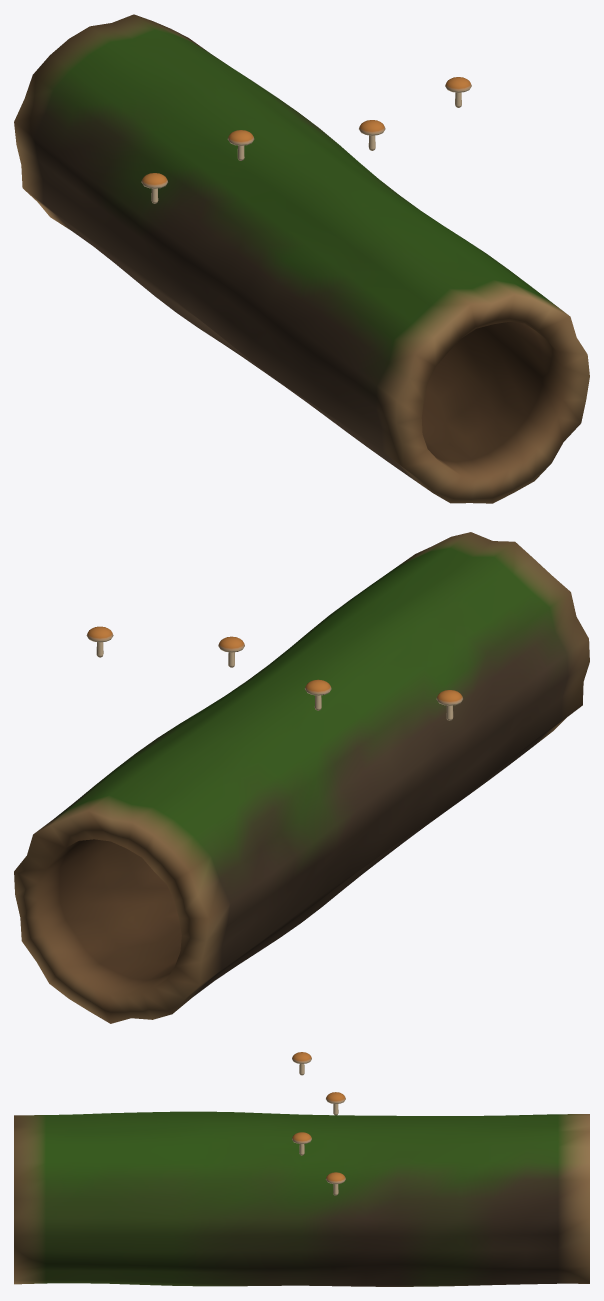
Rendered from Log.glb.
The picture shows the model from 3 angles, top to bottom: view 1: azimuth 30°, elevation 25°; view 2: azimuth 150°, elevation 25°; view 3: azimuth 270°, elevation 25°; orthographic projection. The views are drawn at different scales.
Visible parts, largest first — view 1: LogWood, LogShrooms; view 2: LogWood, LogShrooms; view 3: LogWood, LogShrooms.
Boxes of the visible parts, <box> form: LogWood: <box>14,14,589,503</box>; LogShrooms: <box>141,77,471,203</box>; LogWood: <box>14,532,589,1023</box>; LogShrooms: <box>86,626,462,720</box>; LogWood: <box>14,1111,589,1286</box>; LogShrooms: <box>292,1052,345,1195</box>.
Size of the model in its own units: 0.9 by 0.5624 by 1.7.
